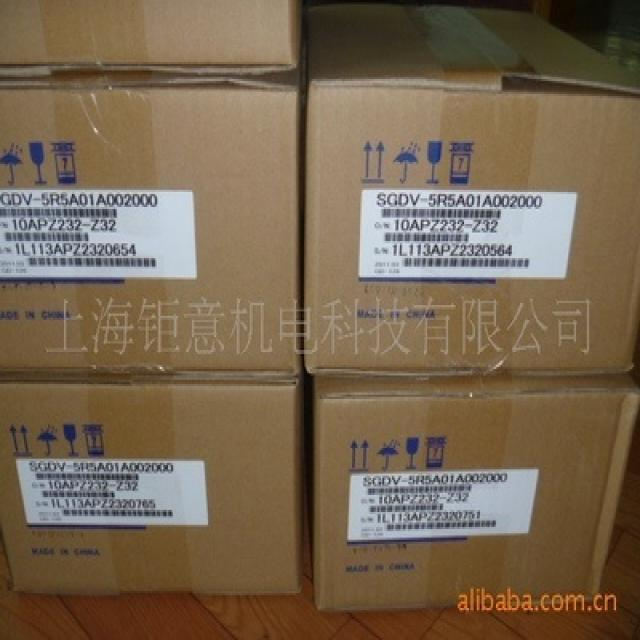box: (303, 1, 638, 378), (0, 71, 304, 380), (303, 373, 638, 613), (0, 379, 304, 595)
